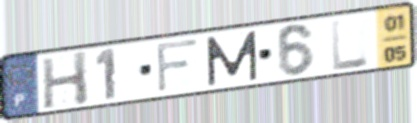1: (93, 45, 119, 103)
6: (276, 22, 320, 78)
F: (154, 36, 201, 95)
H: (39, 49, 91, 111)
L: (329, 16, 371, 73)
M: (204, 29, 261, 89)
